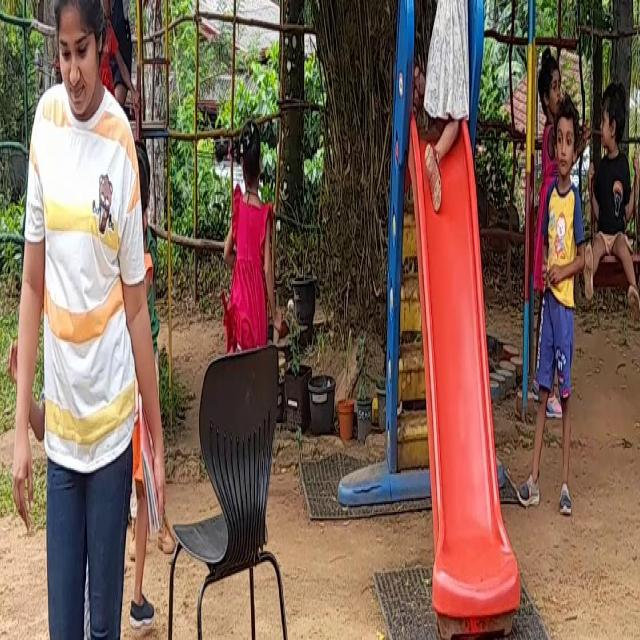adult: (38, 0, 175, 640)
child: (542, 94, 578, 516), (217, 102, 276, 349), (595, 57, 634, 316), (438, 0, 473, 222)
